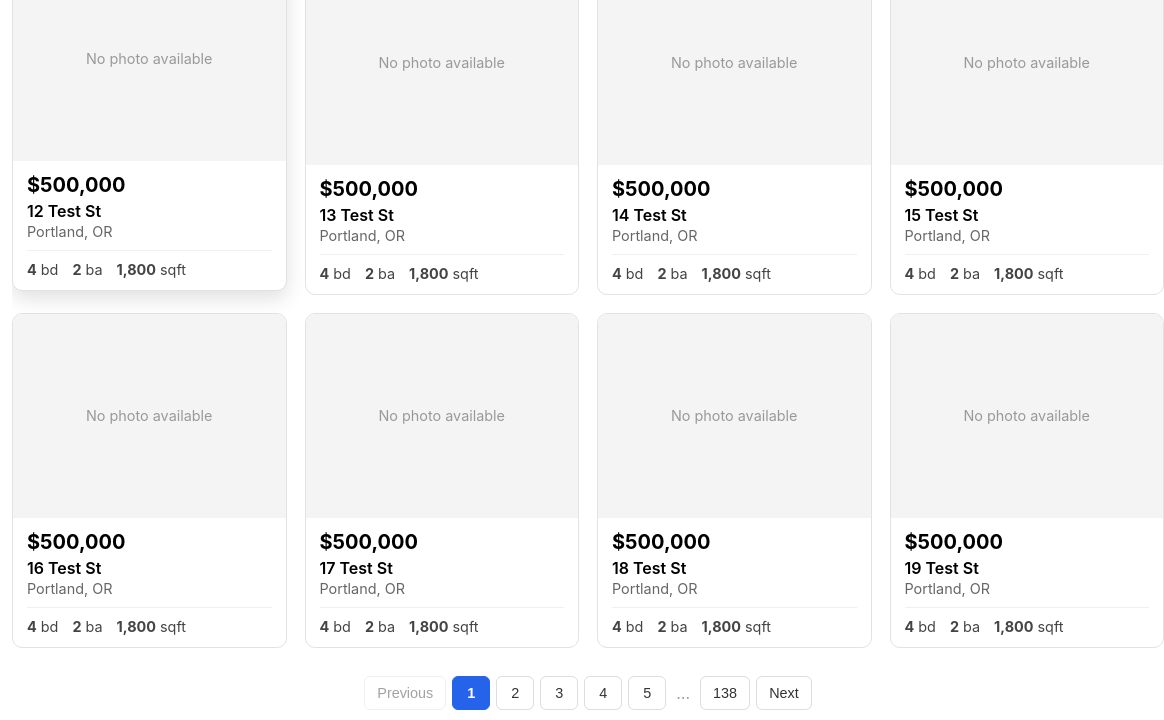
Test case: page 2 renders different listings than page 1
(page scrolled)
Click the button "Next". click: (784, 693)
box: [756,676,812,710]
(page scrolled)
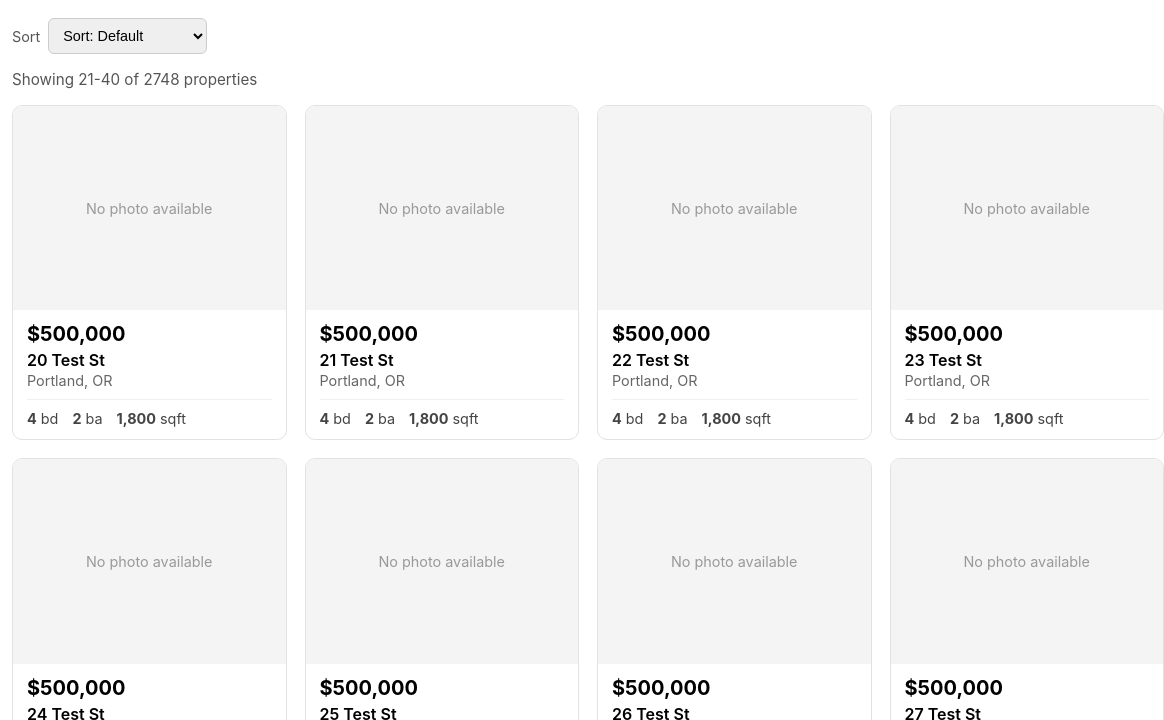
Now the text "Showing 21-40 of 2748 properties" is shown, box [12,70,257,89]
Now the link "20 Test St" is shown, box [27,350,105,370]
